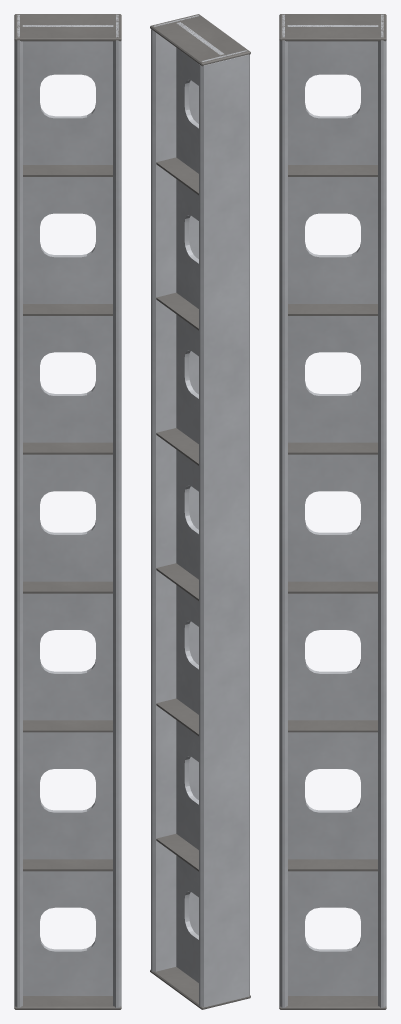
The model's file is ax_gear_11_i_beam_l.glb.
3 renders of one model, left to right at view 1: azimuth 90°, elevation 25°; view 2: azimuth 210°, elevation 25°; view 3: azimuth 270°, elevation 25°, orthographic. The views are drawn at different scales.
Visible parts, largest first — view 1: web, flanges, stiffeners, end_plates; view 2: flanges, web, stiffeners, end_plates; view 3: web, flanges, stiffeners, end_plates.
Boxes of the visible parts, bbox=[...] form: web: bbox=[22, 25, 113, 995]; flanges: bbox=[14, 14, 121, 1007]; stiffeners: bbox=[23, 165, 112, 871]; end_plates: bbox=[14, 14, 121, 1009]; flanges: bbox=[151, 15, 249, 1007]; web: bbox=[176, 22, 223, 982]; stiffeners: bbox=[156, 157, 198, 871]; end_plates: bbox=[150, 14, 250, 1009]; web: bbox=[287, 25, 378, 995]; flanges: bbox=[279, 14, 386, 1007]; stiffeners: bbox=[288, 165, 377, 871]; end_plates: bbox=[279, 14, 386, 1009].
Bounding box in the file's own units: 0.33 × 6 × 0.6.
Materials: 2 (2 with a texture image).
